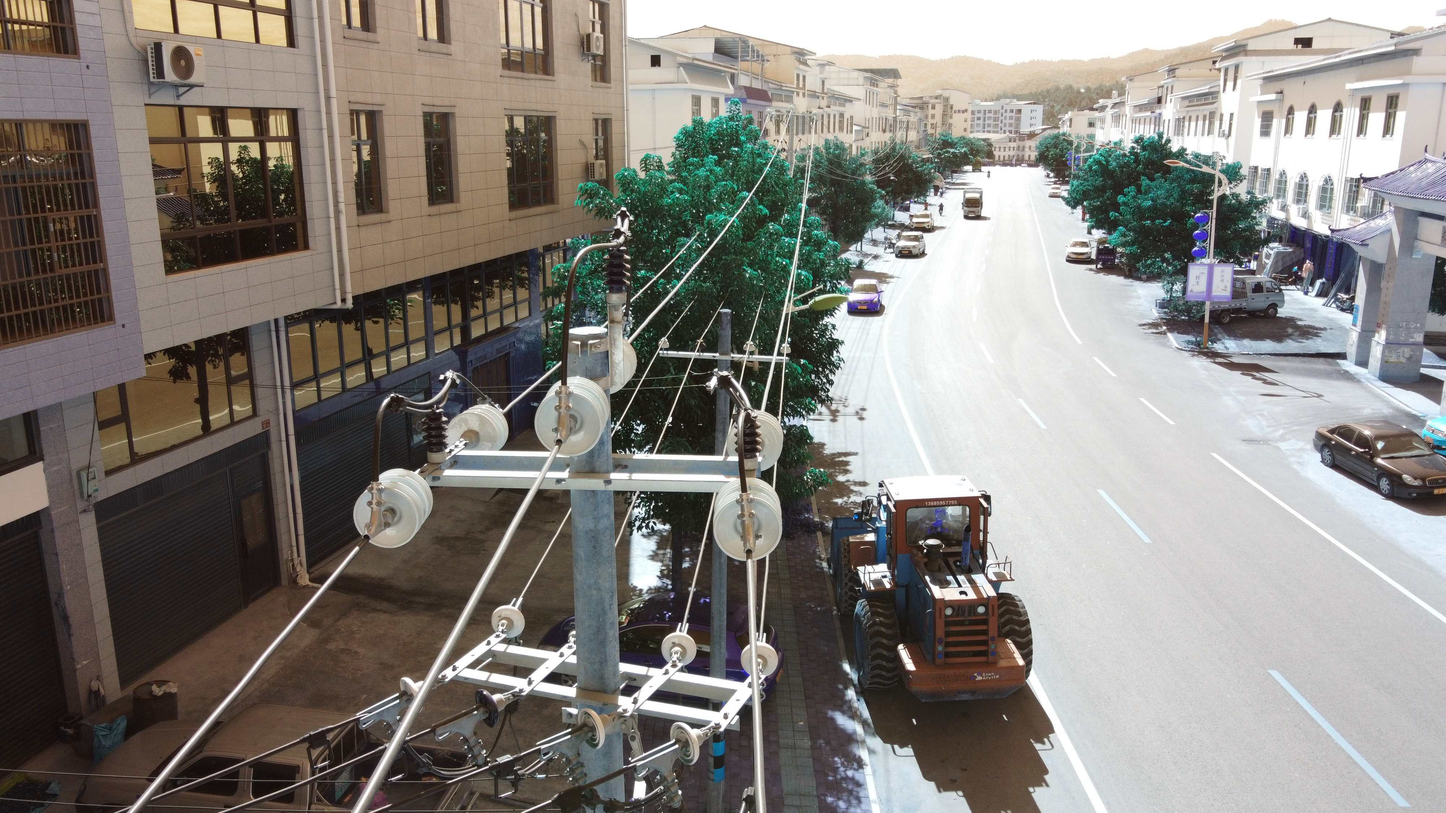severe_soiling_no_discharge_whole: (669, 718, 706, 771), (574, 706, 613, 752)
